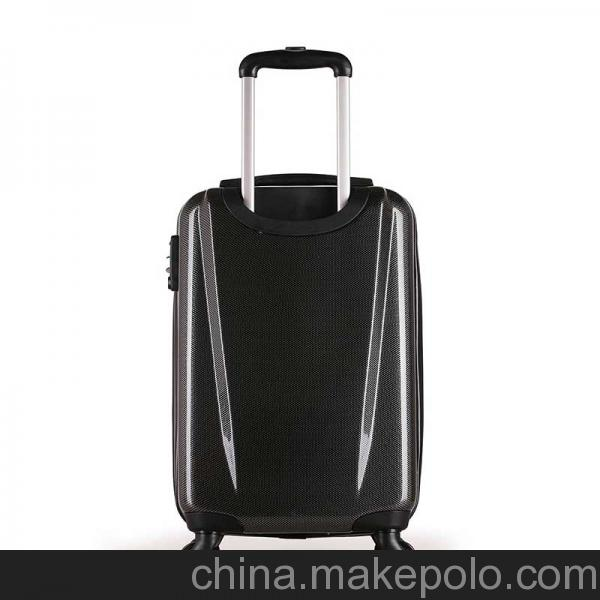luggage: (165, 45, 425, 549)
